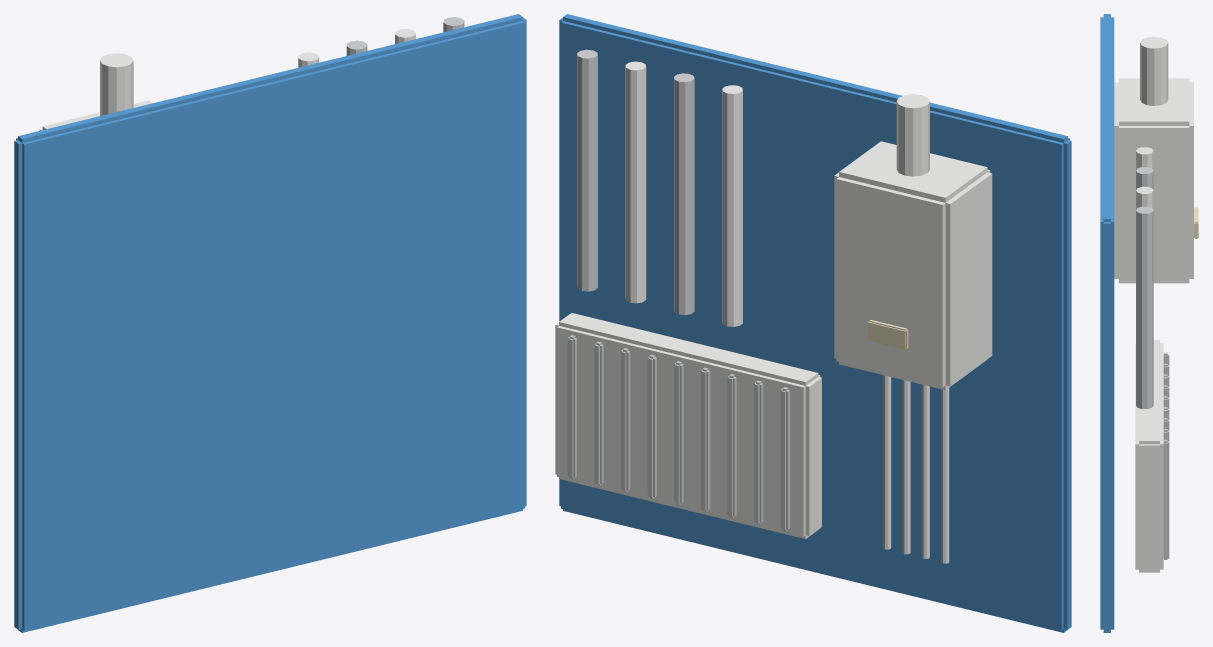
The model's file is Interior_KombiDisplay.fbx.
3 views of the same model, side by side, from view 1: azimuth 30°, elevation 25°; view 2: azimuth 150°, elevation 25°; view 3: azimuth 270°, elevation 25° (orthographic). The views are drawn at different scales.
Visible parts, largest first — view 1: Interior_KombiDisplay; view 2: Interior_KombiDisplay; view 3: Interior_KombiDisplay.
Boxes of the visible parts, box(x1,y1,x2,y2) form: Interior_KombiDisplay: box(14, 14, 526, 632); Interior_KombiDisplay: box(555, 14, 1071, 632); Interior_KombiDisplay: box(1100, 14, 1198, 632).
Bounding box in the file's own units: 2.1 × 2.06 × 0.42.
